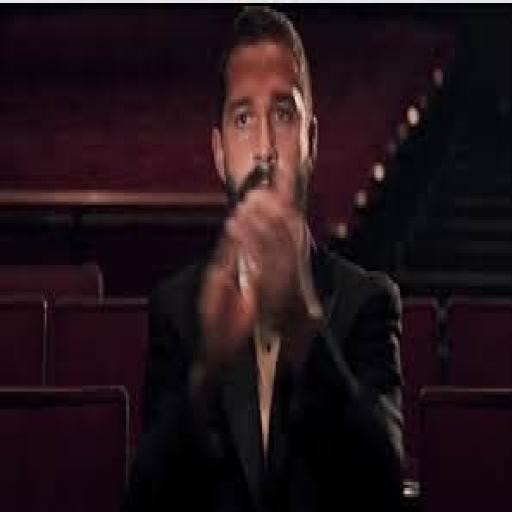clapping: (136, 6, 410, 509)
